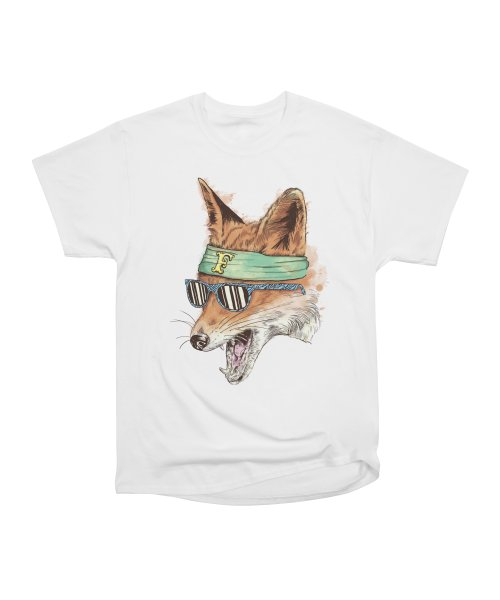design: (165, 173, 329, 387)
